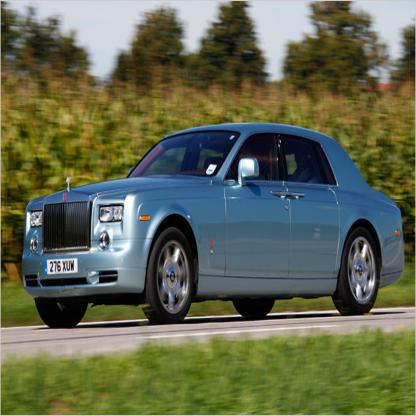car: (20, 117, 408, 331)
